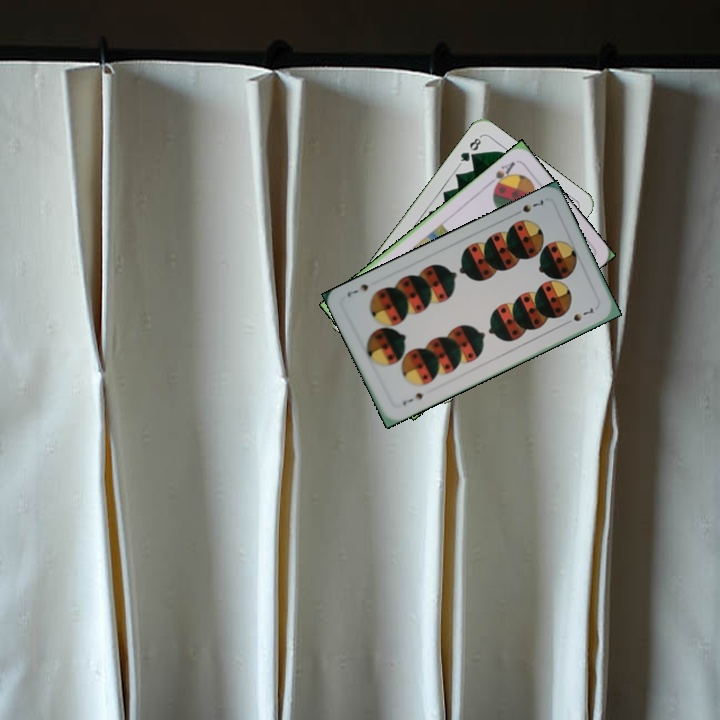G8: (455, 132, 485, 167)
S7: (510, 195, 546, 218), (399, 389, 425, 408)
SA: (484, 158, 518, 192)
